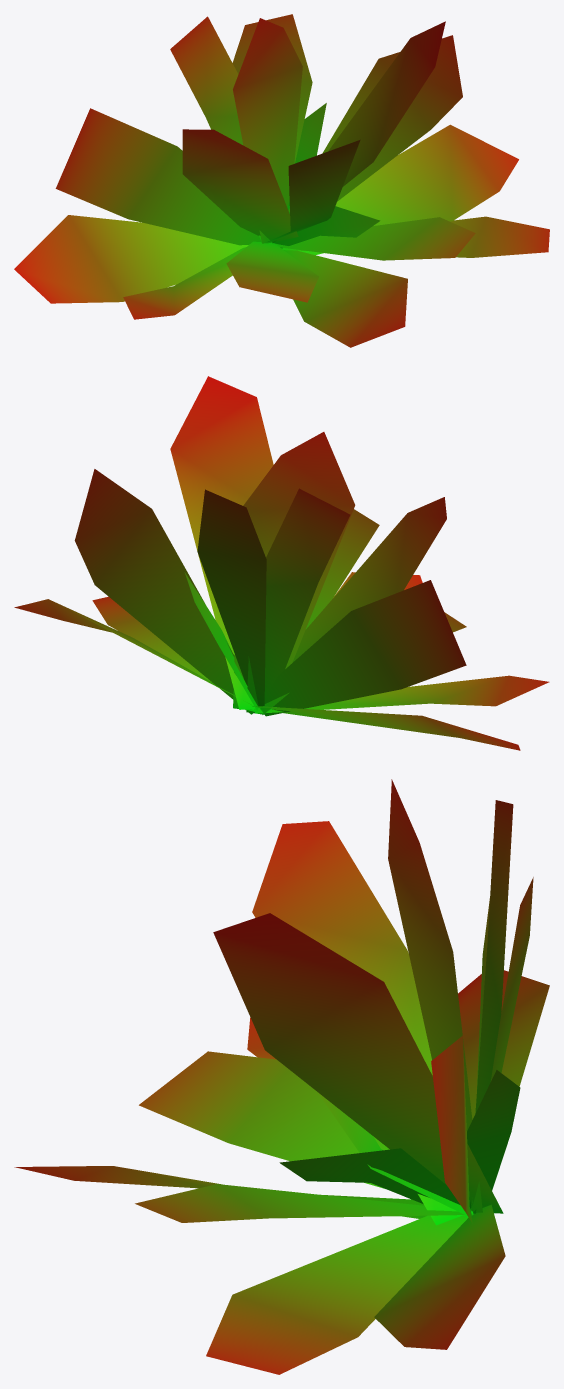
File: Var23_LOD2.fbx
The picture shows the model from 3 angles, top to bottom: view 1: azimuth 30°, elevation 25°; view 2: azimuth 150°, elevation 25°; view 3: azimuth 270°, elevation 25°; orthographic projection. The views are drawn at different scales.
Visible parts, largest first — view 1: _y3aa_Var23_LOD2; view 2: _y3aa_Var23_LOD2; view 3: _y3aa_Var23_LOD2.
Part boxes in pixels (x1,y1,x2,y2): _y3aa_Var23_LOD2: (14, 14, 549, 347); _y3aa_Var23_LOD2: (14, 376, 549, 750); _y3aa_Var23_LOD2: (14, 779, 549, 1374).
Bounding box in the file's own units: 16.88 × 8.73 × 9.96.
